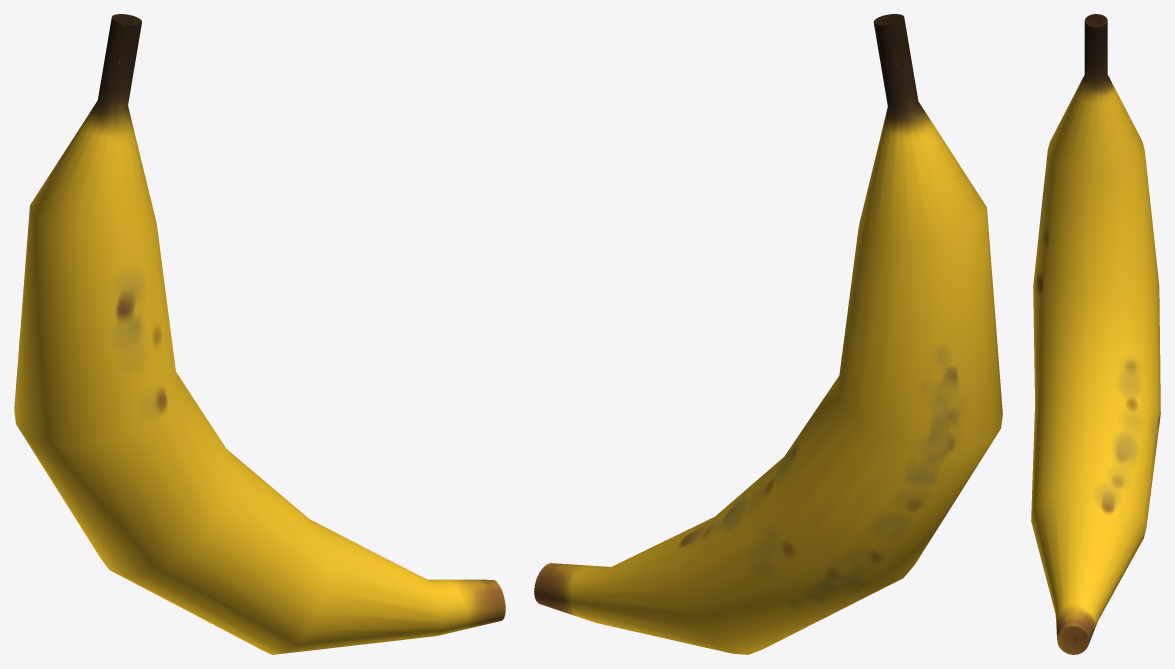
File: banana.fbx
3 views of the same model, side by side, from view 1: azimuth 30°, elevation 25°; view 2: azimuth 150°, elevation 25°; view 3: azimuth 270°, elevation 25° (orthographic). The views are drawn at different scales.
Parts seen in each view (by area): view 1: pCylinder1; view 2: pCylinder1; view 3: pCylinder1.
Boxes of the visible parts, bbox=[...] form: pCylinder1: bbox=[14, 14, 505, 654]; pCylinder1: bbox=[534, 14, 1002, 654]; pCylinder1: bbox=[1031, 14, 1160, 654].
Bounding box in the file's own units: 6.26 × 8.88 × 2.06.
1 material, 1 textured.
